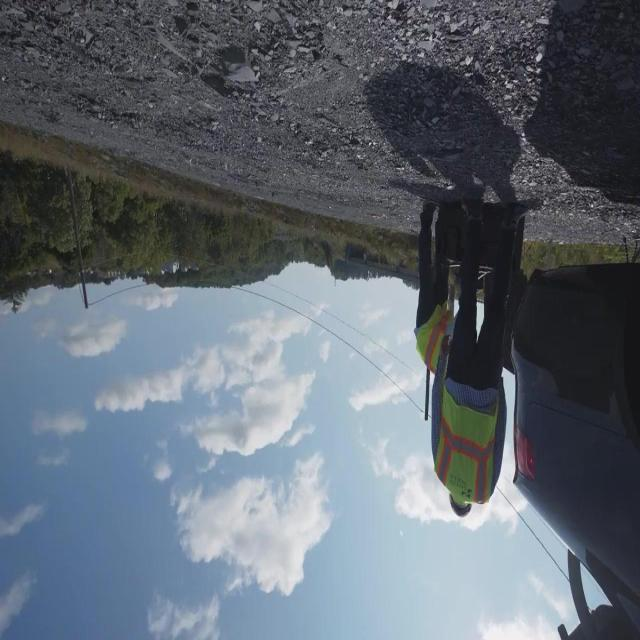jacket: (431, 381, 503, 511)
